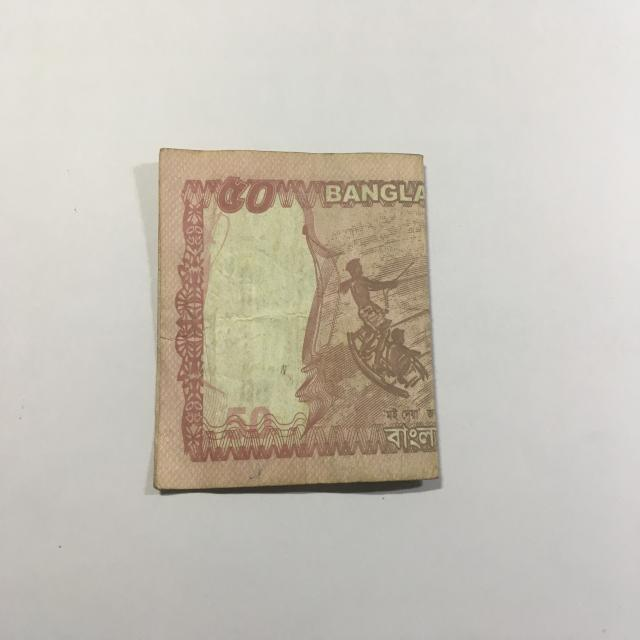Taka: (146, 134, 442, 480)
